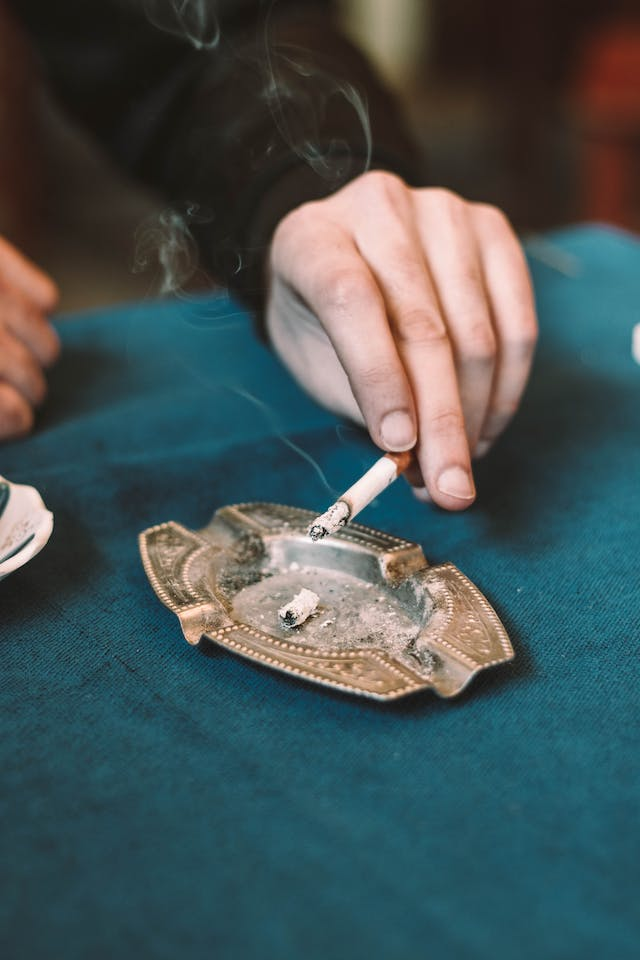Cigarette: (308, 450, 413, 542)
